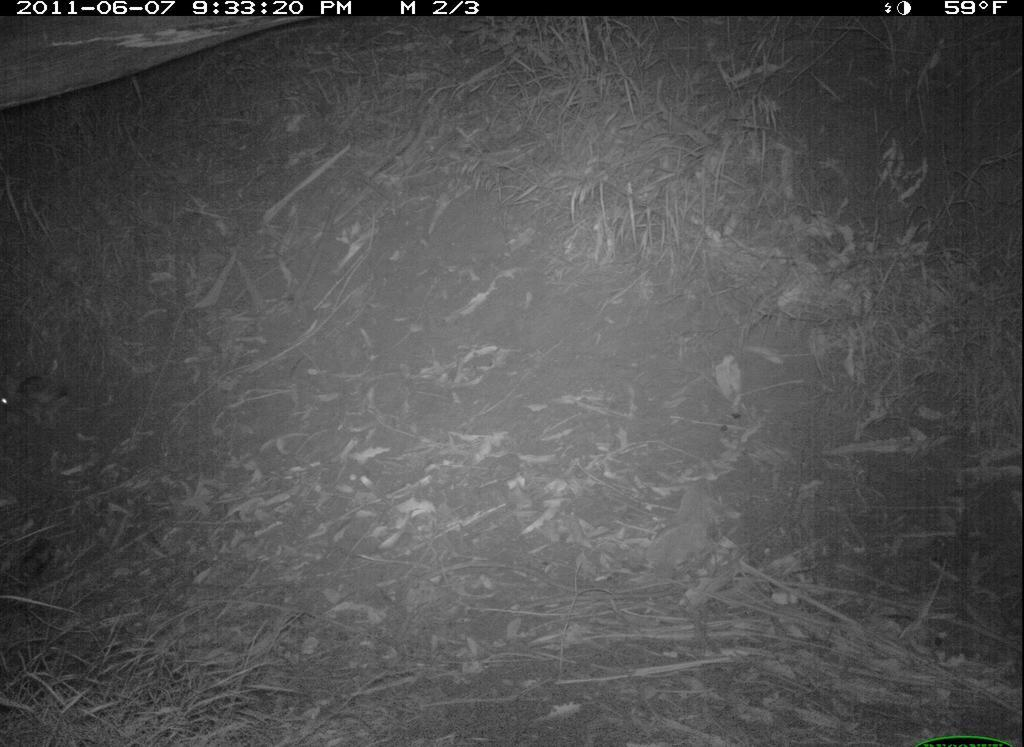rabbit: (1, 365, 77, 438)
